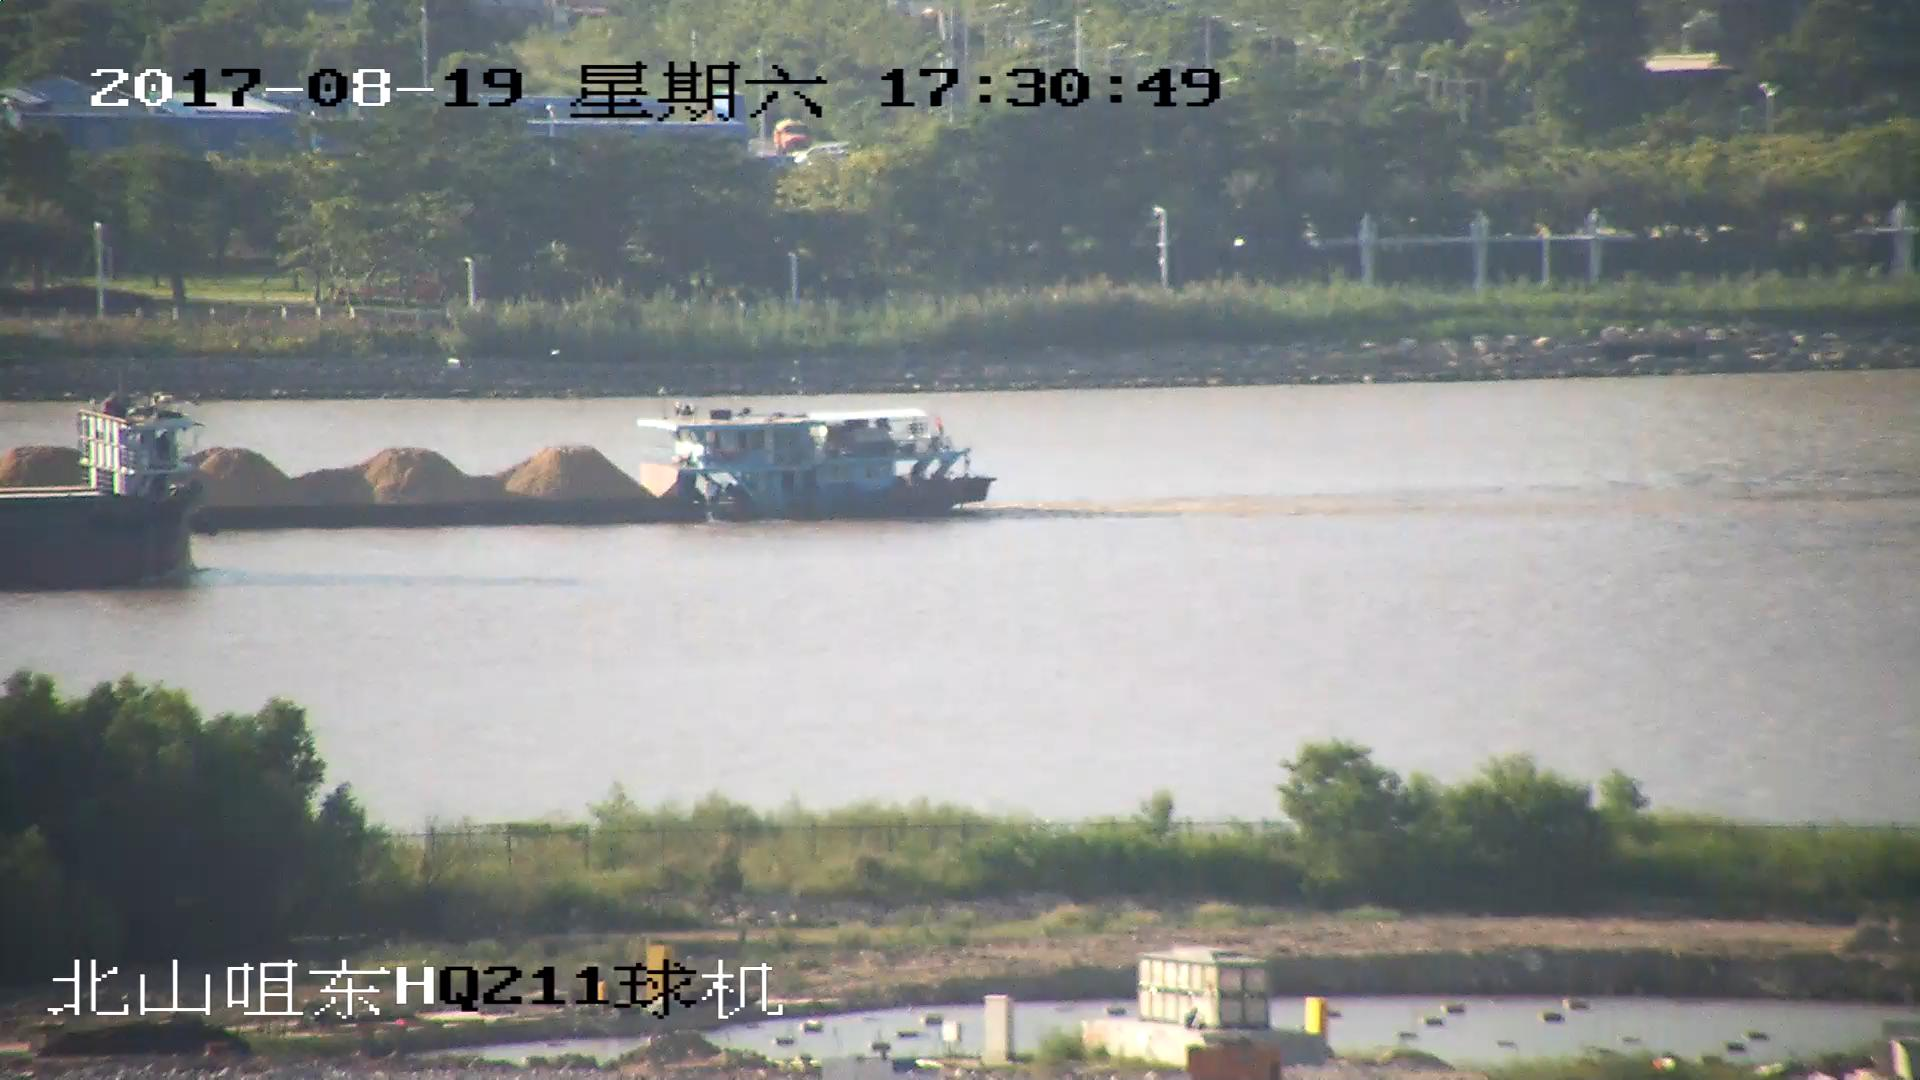general cargo ship: (1, 399, 222, 588)
ore carrier: (1, 411, 995, 526)
